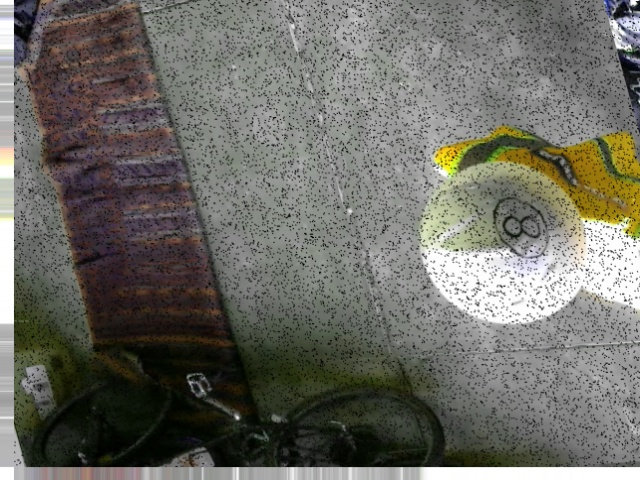eight: (485, 193, 553, 261)
